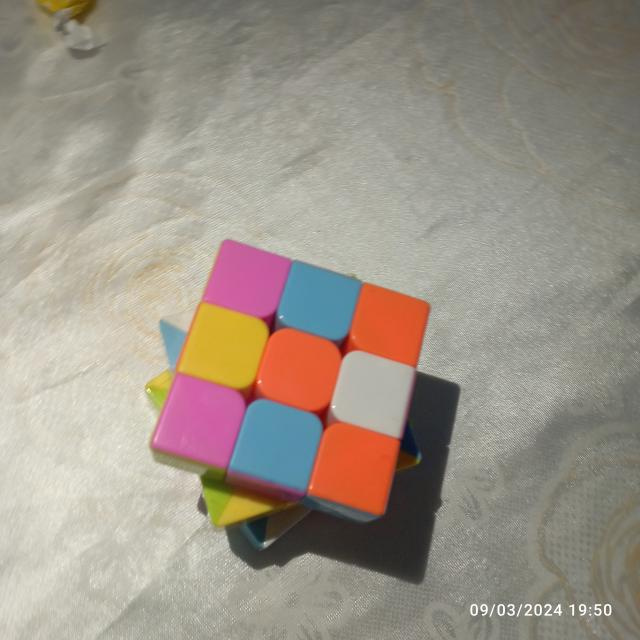Rub: (140, 232, 434, 555)
